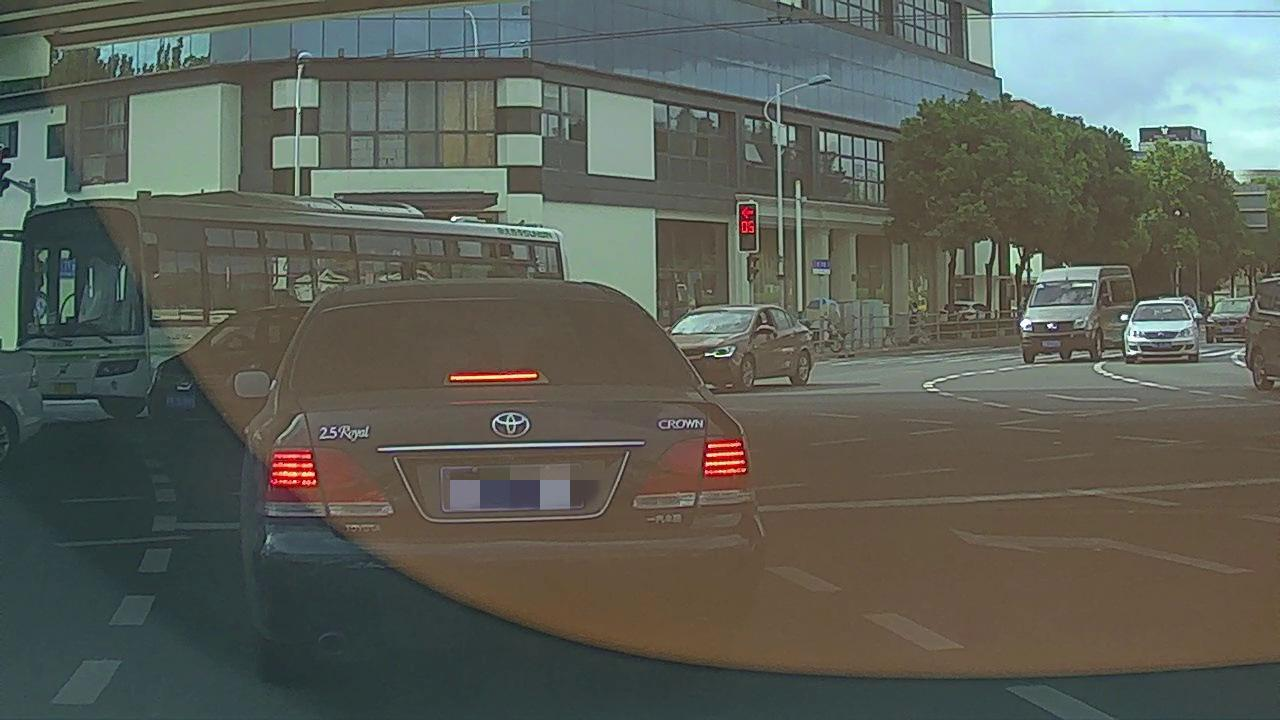traffic_light: (738, 204, 759, 252)
